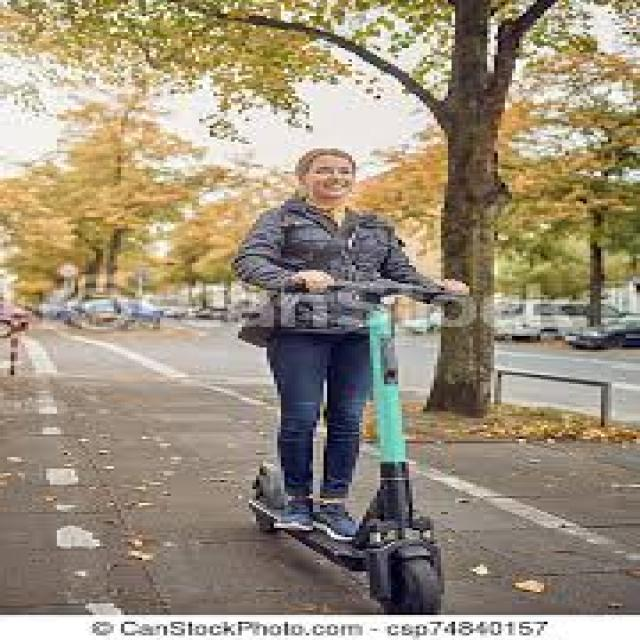non-helmet: (212, 142, 486, 611)
